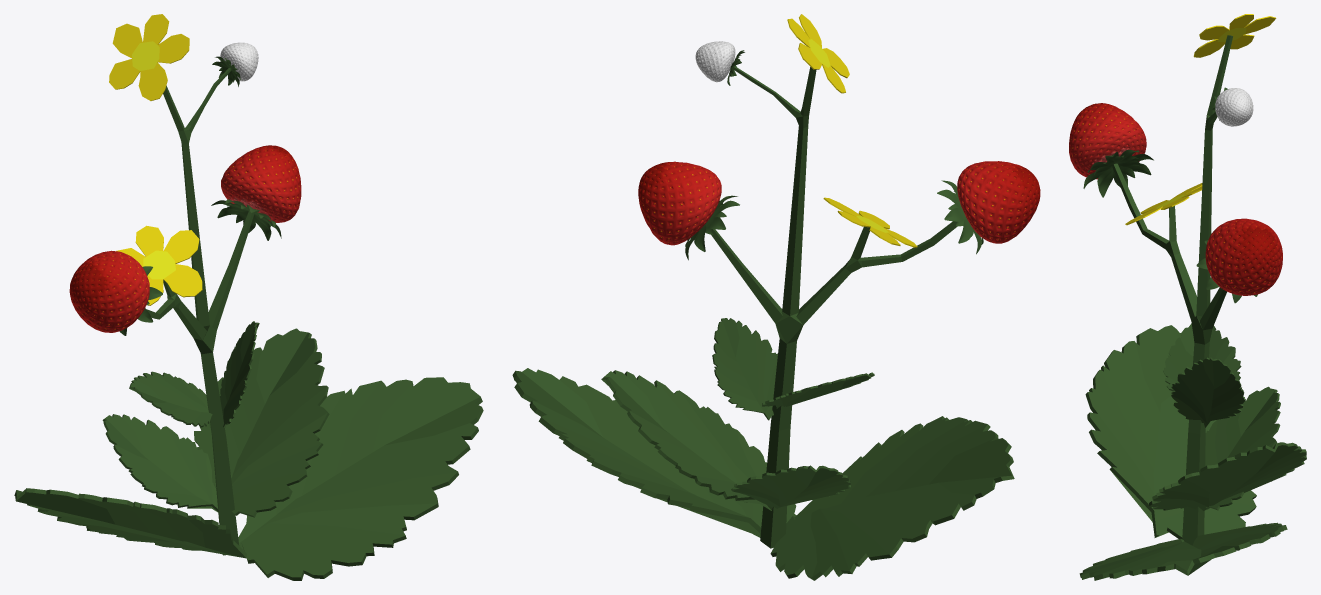
The model's file is mock-strawberry.fbx.
3 views of the same model, side by side, from view 1: azimuth 30°, elevation 25°; view 2: azimuth 150°, elevation 25°; view 3: azimuth 270°, elevation 25° (orthographic). The views are drawn at different scales.
Visible parts, largest first — view 1: Cube, strawberry.001, strawberry.002, strawberry.003; view 2: Cube, strawberry.001, strawberry.002, strawberry.003; view 3: Cube, strawberry.001, strawberry.002, strawberry.003.
Part boxes in pixels (<box>): Cube: <box>14,14,483,580</box>; strawberry.001: <box>69,250,162,335</box>; strawberry.002: <box>211,145,301,240</box>; strawberry.003: <box>212,42,258,86</box>; Cube: <box>512,14,1014,580</box>; strawberry.001: <box>937,161,1040,254</box>; strawberry.002: <box>638,161,739,260</box>; strawberry.003: <box>695,41,744,85</box>; Cube: <box>1079,14,1306,580</box>; strawberry.001: <box>1069,103,1153,197</box>; strawberry.002: <box>1196,218,1282,303</box>; strawberry.003: <box>1212,87,1253,126</box>.
Size of the model in its own units: 270 by 293 by 121.
